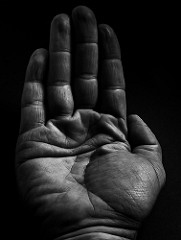palm: (35, 120, 145, 213)
